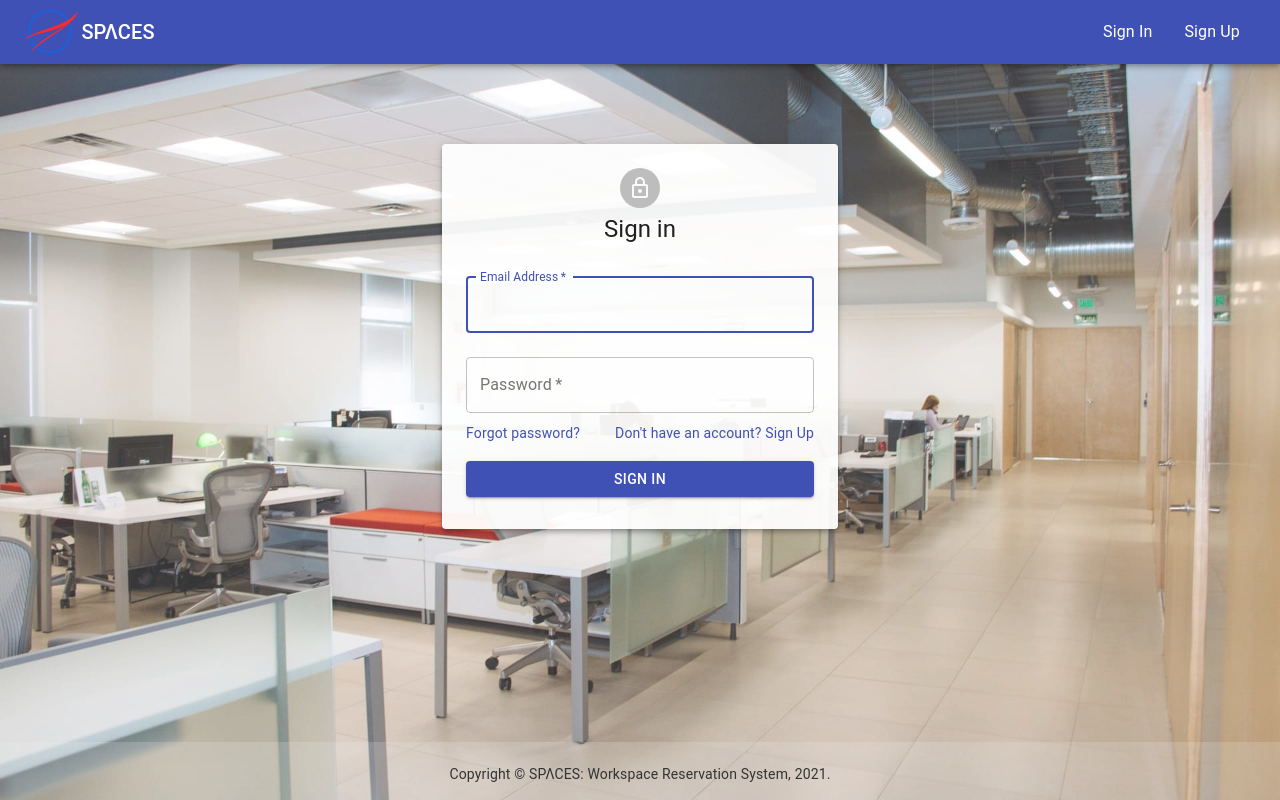
it: Sign in page › has valid link to Forgot Password
What coordinates should you click on to do the following:
click the link "Forgot password?"
I would click on:
 (523, 433)
Its box is 466,425 -> 580,441.
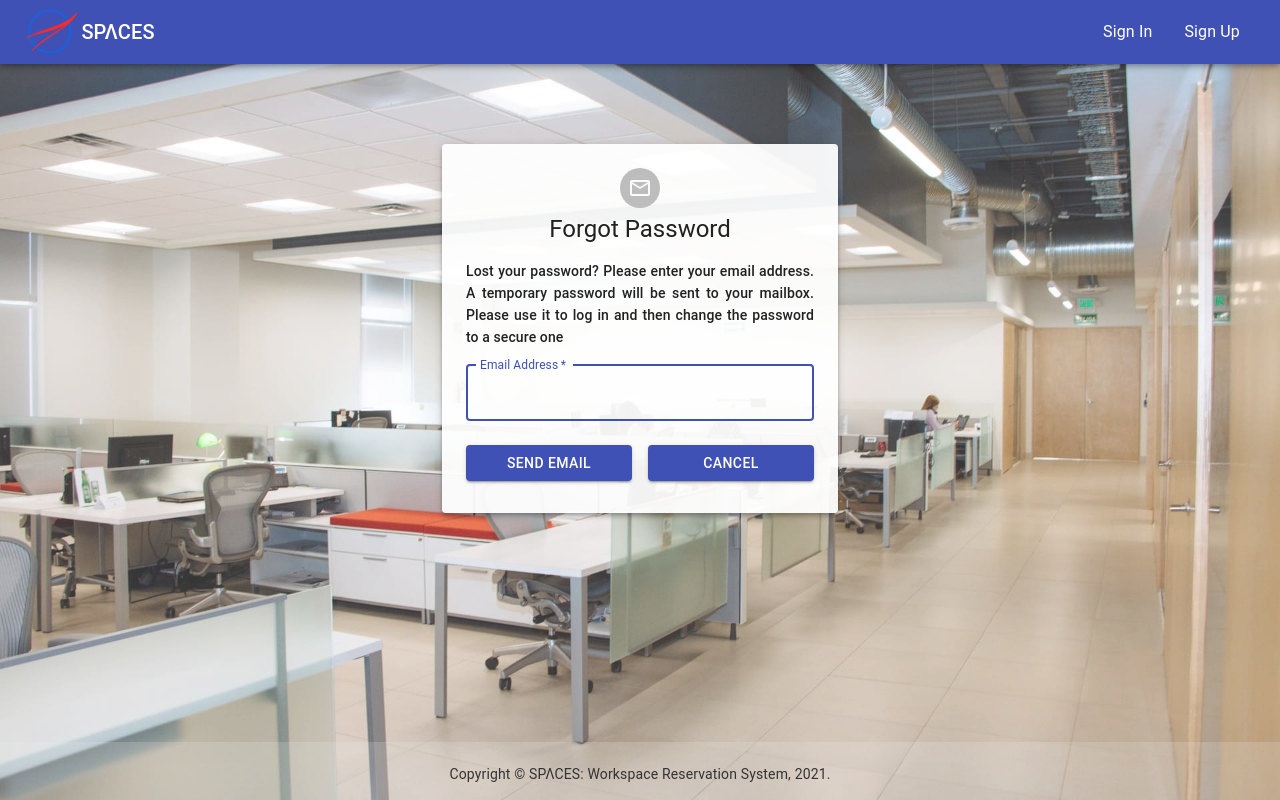
Expected: the heading "Forgot Password" is shown, 549,213 -> 731,245
